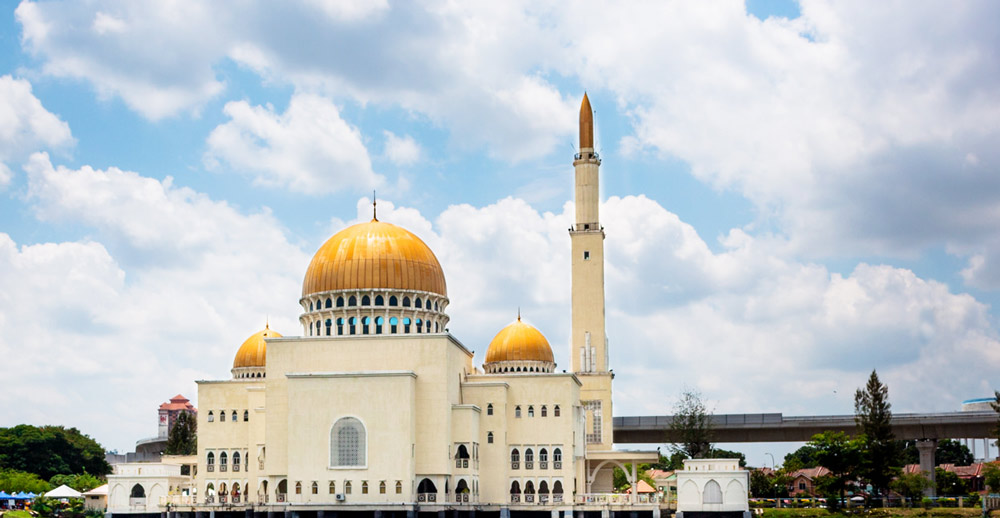Mosque: (174, 93, 617, 488)
